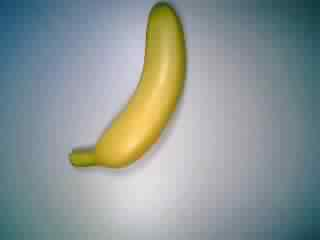banana: (65, 1, 193, 175)
